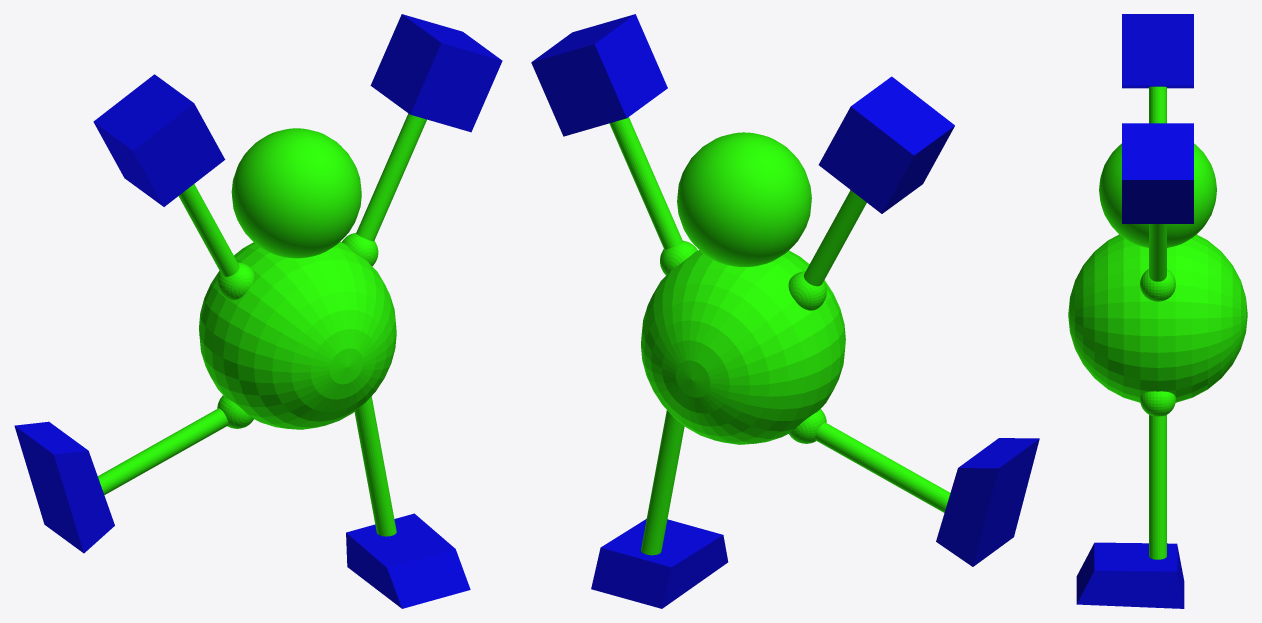
The model's file is testHierarchi.fbx.
3 renders of one model, left to right at view 1: azimuth 30°, elevation 25°; view 2: azimuth 150°, elevation 25°; view 3: azimuth 270°, elevation 25°, orthographic. The views are drawn at different scales.
Parts seen in each view (by area): view 1: body, Head, RightHand, LeftHand, LeftFoot, RightFoot, RightLeg, LeftLeg, LeftArm, RightArm, RightShoulder, LeftShoulder (+1 smaller); view 2: body, Head, RightHand, LeftHand, RightFoot, LeftFoot, RightLeg, LeftLeg, LeftArm, RightArm, RightShoulder, RightGroin (+1 smaller); view 3: body, LeftHand, LeftFoot, RightHand, Head, LeftLeg, LeftArm, LeftShoulder, LeftGroin, RightArm.
Part boxes in pixels (x1,y1,x2,y2): body: (199, 241, 396, 429); Head: (231, 128, 361, 258); RightHand: (93, 74, 225, 206); LeftHand: (370, 14, 502, 132); LeftFoot: (346, 513, 470, 608); RightFoot: (14, 421, 114, 553); RightLeg: (98, 408, 228, 494); LeftLeg: (354, 396, 396, 536); LeftArm: (356, 113, 426, 241); RightArm: (178, 184, 239, 276); RightShoulder: (217, 262, 254, 300); LeftShoulder: (342, 233, 378, 266); body: (641, 250, 845, 444); Head: (677, 132, 811, 266); RightHand: (818, 76, 954, 213); LeftHand: (531, 14, 667, 136); RightFoot: (936, 438, 1039, 566); LeftFoot: (591, 519, 728, 608); RightLeg: (815, 422, 950, 512); LeftLeg: (641, 410, 684, 555); LeftArm: (609, 117, 682, 249); RightArm: (803, 190, 866, 286); RightShoulder: (788, 271, 826, 310); RightGroin: (788, 409, 826, 443); body: (1068, 234, 1247, 402); LeftHand: (1122, 123, 1193, 223); LeftFoot: (1076, 542, 1184, 608); RightHand: (1122, 14, 1193, 88); Head: (1099, 143, 1216, 247); LeftLeg: (1149, 415, 1166, 559); LeftArm: (1149, 224, 1166, 281); LeftShoulder: (1140, 269, 1175, 301); LeftGroin: (1140, 391, 1175, 416); RightArm: (1149, 86, 1166, 123).
Size of the model in its own units: 2.62 by 2.97 by 1.
